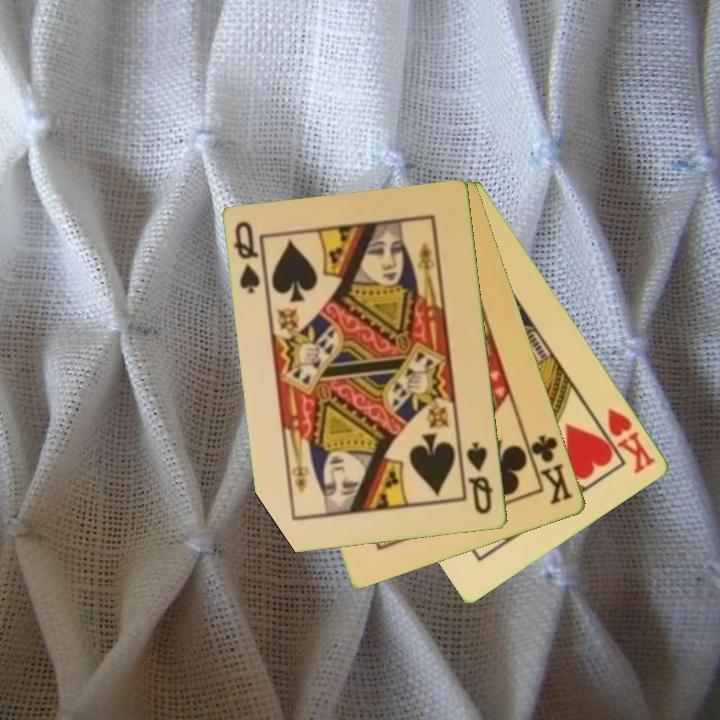Kc: (522, 431, 576, 508)
Kh: (590, 404, 659, 477)
Qs: (231, 218, 270, 297), (463, 438, 497, 518)
